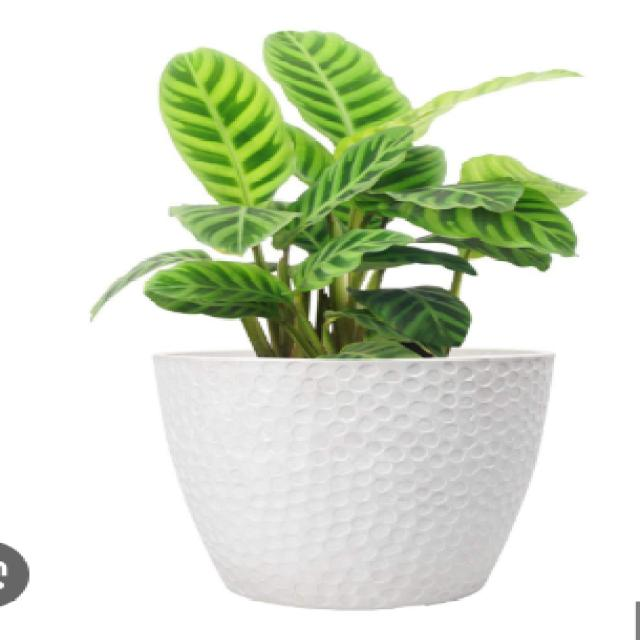Plant Pot: (134, 334, 596, 620)
